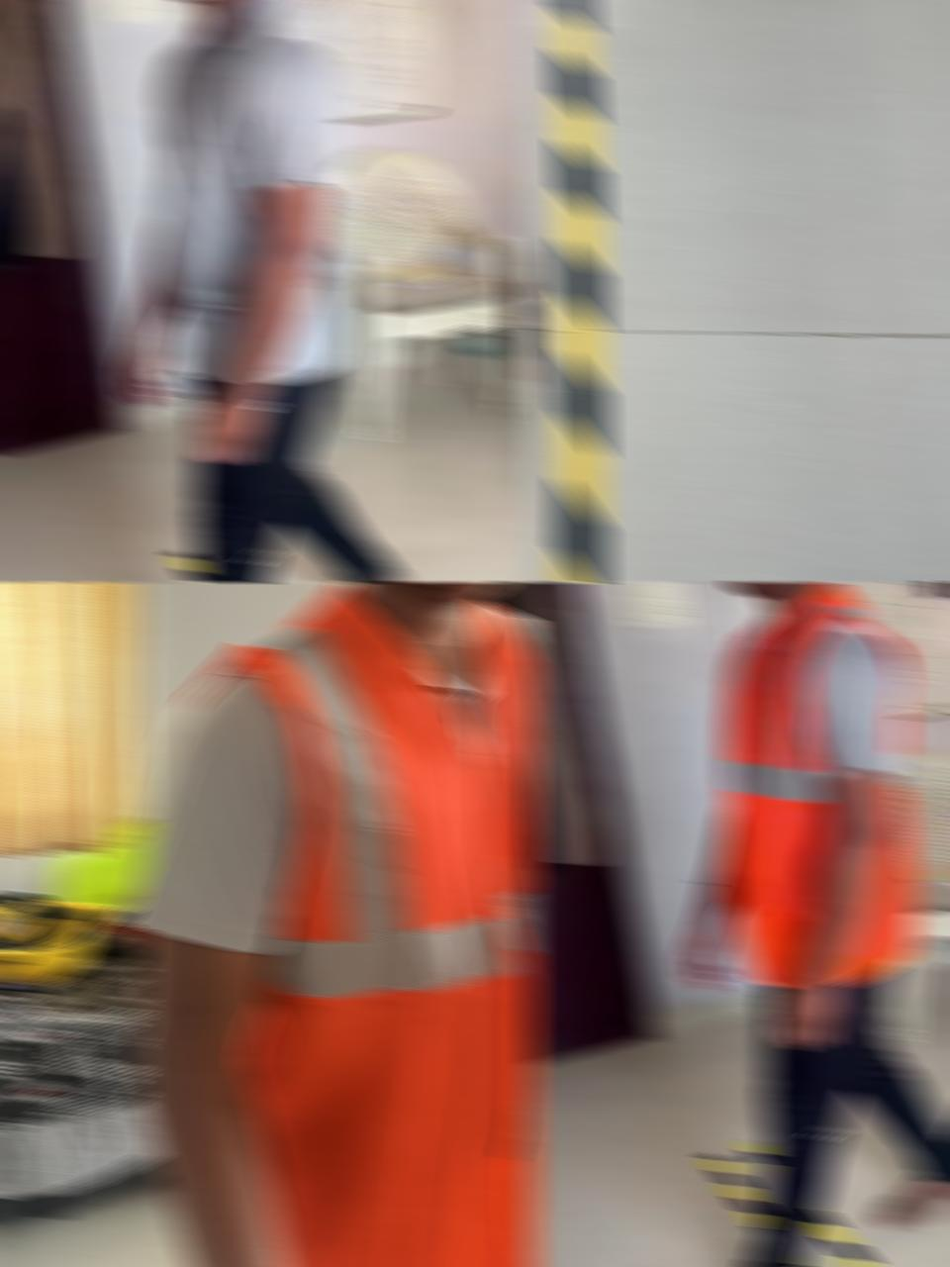BorderLine: (524, 0, 608, 582), (701, 1141, 950, 1267)
No_Helmet: (715, 582, 860, 599)
No_Vest: (151, 0, 354, 389)
Person: (120, 581, 537, 1267), (669, 581, 950, 1267), (88, 0, 407, 582)
Vest: (168, 582, 537, 1267), (720, 582, 920, 989)
